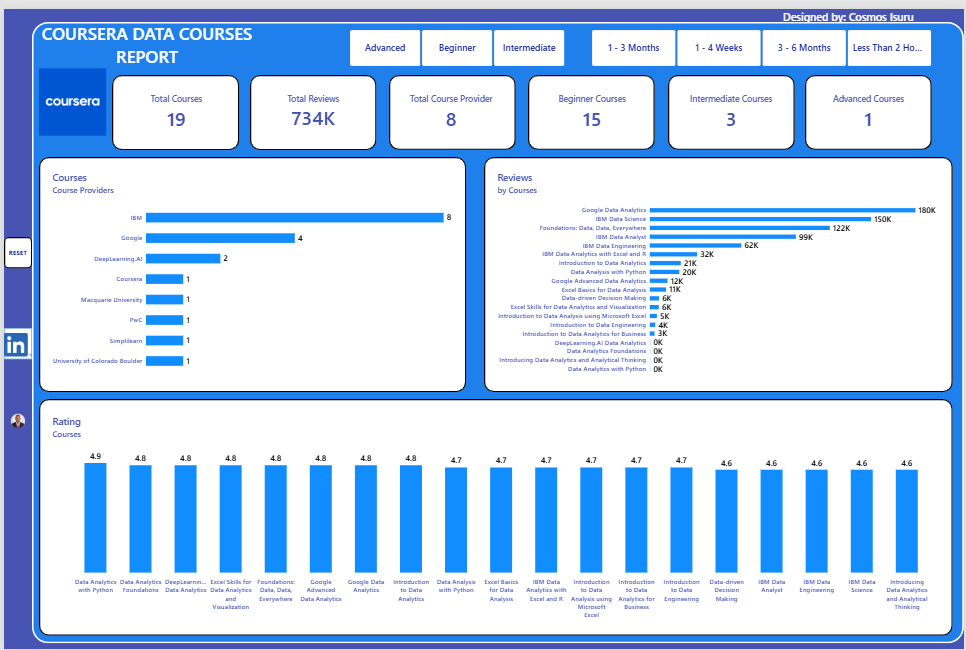

The page's visual inventory and layout, read from the dashboard file:
{"tool":"powerbi","page":{"name":"Page 1","canvas":[2400,1600],"ordinal":0},"visuals":[{"type":"shape","box":[70.2,31.9,2329.8,1553.2],"z":0},{"type":"shape","box":[88,370,1068,588],"z":1000},{"type":"shape","box":[88,974,2284,592],"z":2000},{"type":"shape","box":[1200,370,1172,588],"z":3000},{"type":"shape","box":[961.7,166,317,187.2],"z":4000},{"type":"shape","box":[1310.6,166,317,187.2],"z":5000},{"type":"shape","box":[1659.6,166,317,187.2],"z":6000},{"type":"shape","box":[2002.1,166,317,187.2],"z":7000},{"type":"shape","box":[616,164,316,188],"z":8000},{"type":"shape","box":[270,166,318,188],"z":9000},{"type":"actionButton","box":[0,570.2,70.2,78.7],"z":10000},{"type":"shape","box":[0,797.9,70,78],"z":11000},{"type":"image","box":[0,800,70.2,78.7],"z":12000},{"type":"textbox","box":[87.2,31.9,540.4,134],"z":13000},{"type":"image","box":[0,957.4,70.2,144.7],"z":14000},{"type":"advancedSlicerVisual","fields":{"Values":["Fact Table.Level"]},"box":[866,52,536,90],"z":15000},{"type":"cardVisual","fields":{"Data":["Fact Table.Total Courses"]},"box":[290,182,282,150],"z":16000},{"type":"cardVisual","fields":{"Data":["Fact Table.Total Providers"]},"box":[970,182,296,150],"z":17000},{"type":"cardVisual","fields":{"Data":["Fact Table.Intermediate Courses"]},"box":[1678,182,280,150],"z":18000},{"type":"cardVisual","fields":{"Data":["Fact Table.Beginner Courses"]},"box":[1328,182,286,150],"z":19000},{"type":"cardVisual","fields":{"Data":["Fact Table.Advanced Courses"]},"box":[2020,182,282,150],"z":20000},{"type":"cardVisual","fields":{"Data":["Fact Table.Total Reviews"]},"box":[636,182,276,146],"z":21000},{"type":"clusteredBarChart","title":"Reviews","fields":{"Category":["Fact Table.Course"],"Y":["Fact Table.Total Reviews"]},"box":[1218,390,1128,540],"z":22000},{"type":"barChart","title":"Courses","fields":{"Category":["Fact Table.Provider"],"Y":["Fact Table.Total Courses"]},"box":[104,390,1030,540],"z":23000},{"type":"clusteredColumnChart","title":"Rating","fields":{"Category":["Fact Table.Course"],"Y":["Fact Table.Total Rating"]},"box":[104,1000,2242,544],"z":24000},{"type":"textbox","box":[1948,0,452,52],"z":25000},{"type":"advancedSlicerVisual","fields":{"Values":["Fact Table.Duration"]},"box":[1470,52,848,90],"z":26000},{"type":"image","box":[88,112,168,240],"z":26001}]}

Visuals, with their boxes in screenshot pixels (x1, y1, x2, y2), scaled from the page's 2400x1600 canvas onto the 966x650 screenshot:
shape: region(28, 13, 965, 644)
shape: region(35, 150, 465, 389)
shape: region(35, 396, 955, 636)
shape: region(483, 150, 955, 389)
shape: region(387, 67, 515, 143)
shape: region(528, 67, 655, 143)
shape: region(668, 67, 796, 143)
shape: region(806, 67, 933, 143)
shape: region(248, 67, 375, 143)
shape: region(109, 67, 237, 144)
actionButton: region(0, 232, 28, 264)
shape: region(0, 324, 28, 356)
image: region(0, 325, 28, 357)
textbox: region(35, 13, 253, 67)
image: region(0, 389, 28, 448)
advancedSlicerVisual - Fact Table.Level: region(349, 21, 564, 58)
cardVisual - Fact Table.Total Courses: region(117, 74, 230, 135)
cardVisual - Fact Table.Total Providers: region(390, 74, 510, 135)
cardVisual - Fact Table.Intermediate Courses: region(675, 74, 788, 135)
cardVisual - Fact Table.Beginner Courses: region(535, 74, 650, 135)
cardVisual - Fact Table.Advanced Courses: region(813, 74, 927, 135)
cardVisual - Fact Table.Total Reviews: region(256, 74, 367, 133)
"Reviews" clusteredBarChart: region(490, 158, 944, 378)
"Courses" barChart: region(42, 158, 456, 378)
"Rating" clusteredColumnChart: region(42, 406, 944, 627)
textbox: region(784, 0, 965, 21)
advancedSlicerVisual - Fact Table.Duration: region(592, 21, 933, 58)
image: region(35, 46, 103, 143)
